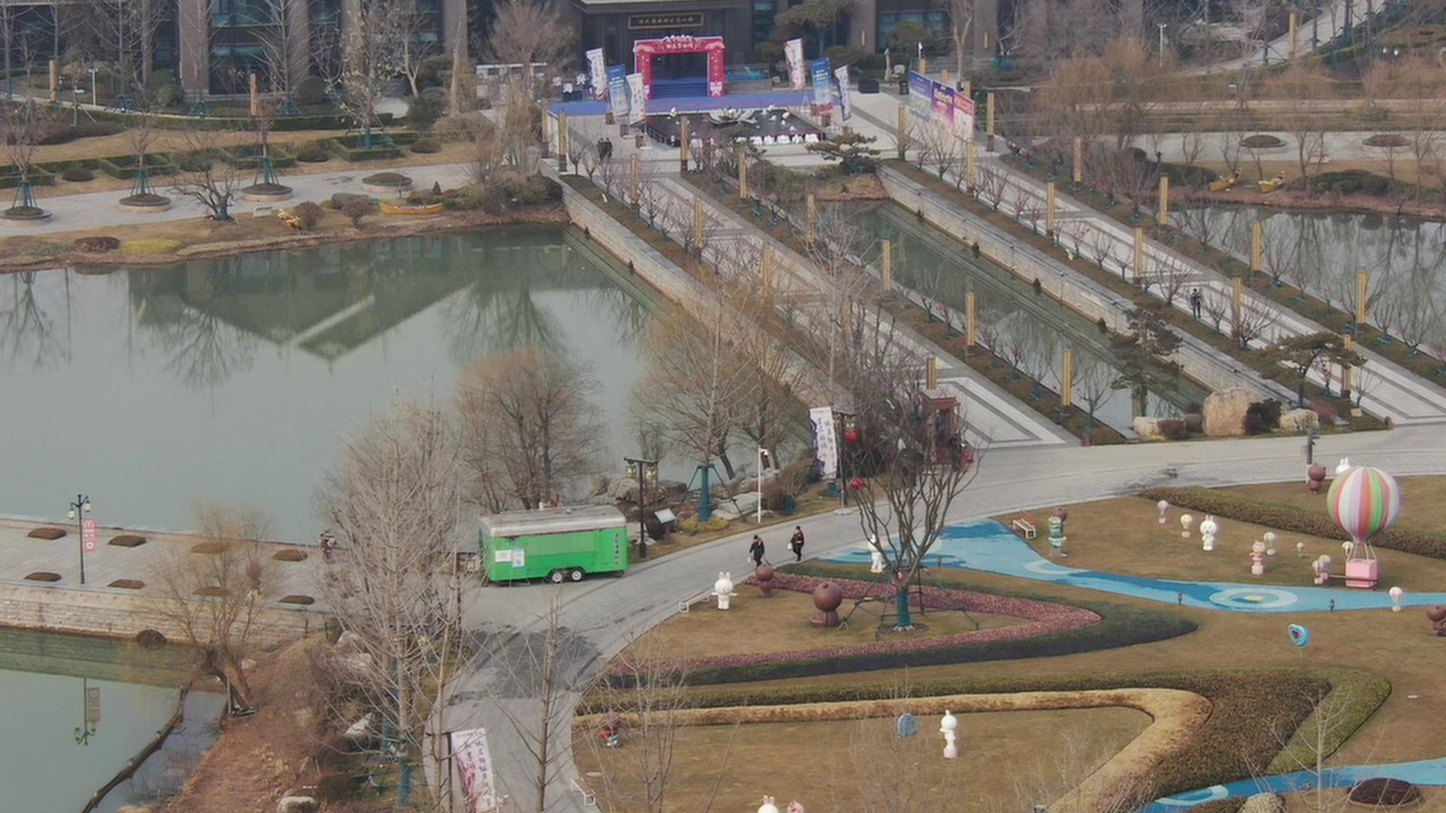class_2: (587, 130, 609, 166)
human: (741, 525, 763, 568), (786, 516, 806, 562)
